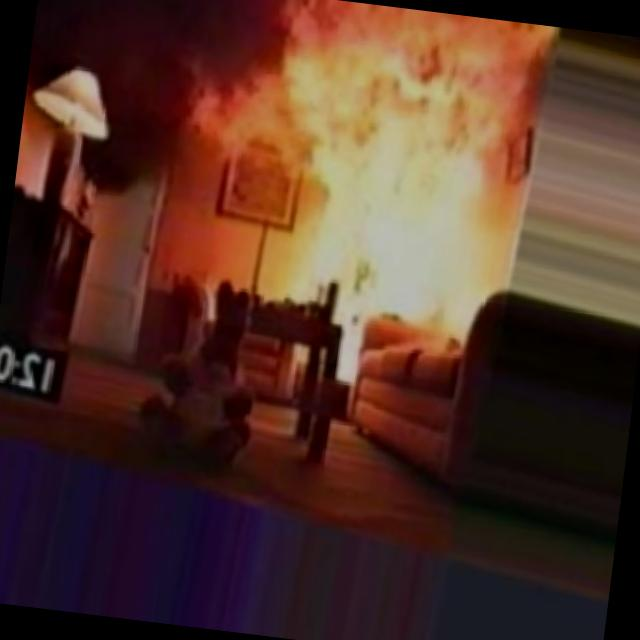fire: (174, 0, 549, 368)
smoke: (18, 0, 285, 200)
